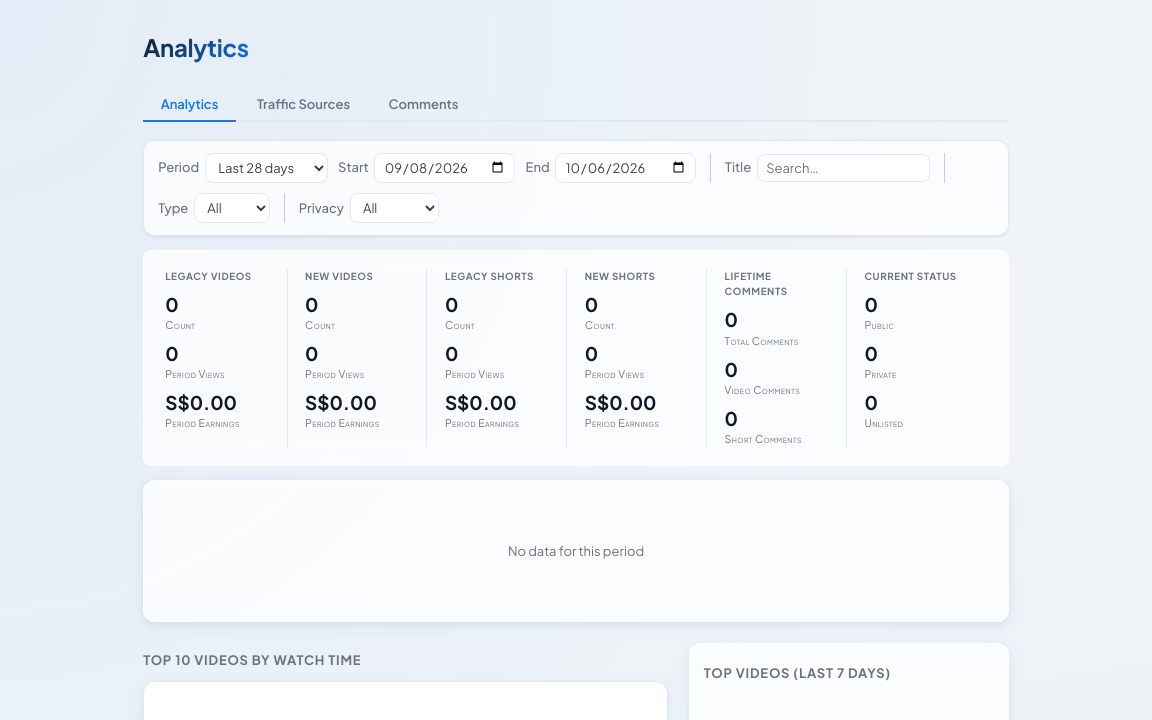
Test: tab selection and URL state › keeps explicit tab selections, the active tab, and the rendered content in sync on every switch
Expected: the text "Top 10 Videos by Watch Time" is shown, [143,652,361,668]
Click the button "Traffic Sources" at {"x": 304, "y": 105}, box [239,87,368,122]
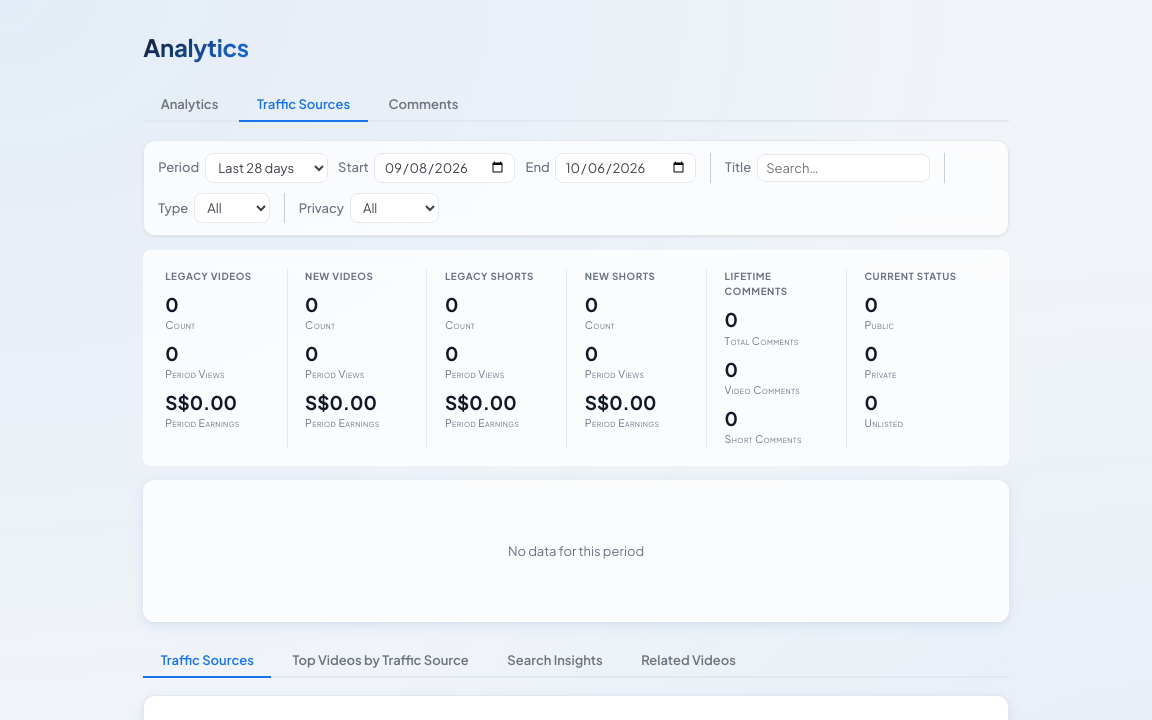
Now the button "Top Videos by Traffic Source" is shown, box [275,643,486,678]
Now the text "Top 10 Videos by Watch Time" is gone
Click the button "Comments" at {"x": 424, "y": 105}, box [371,87,476,122]
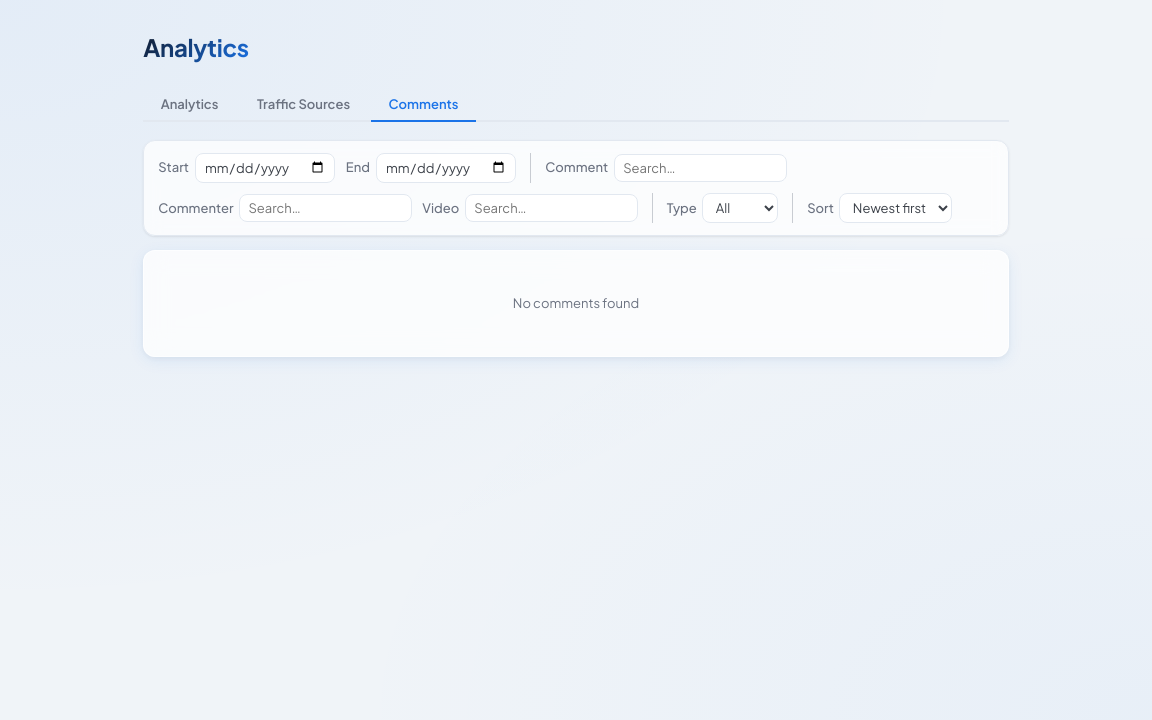
Now the text "No comments found" is shown, box [143,250,1009,357]
Now the button "Top Videos by Traffic Source" is gone
Click the button "Analytics" at {"x": 190, "y": 105}, box [143,87,236,122]
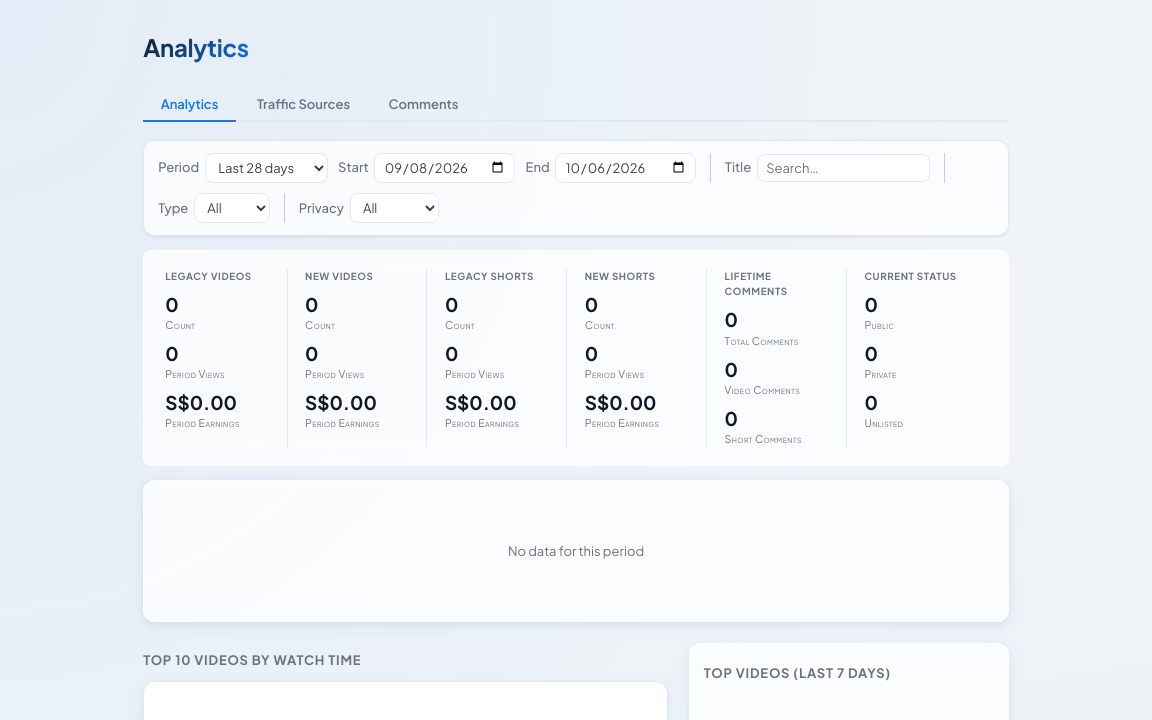
Now the text "Top 10 Videos by Watch Time" is shown, box [143,652,361,668]
Now the text "No comments found" is gone
